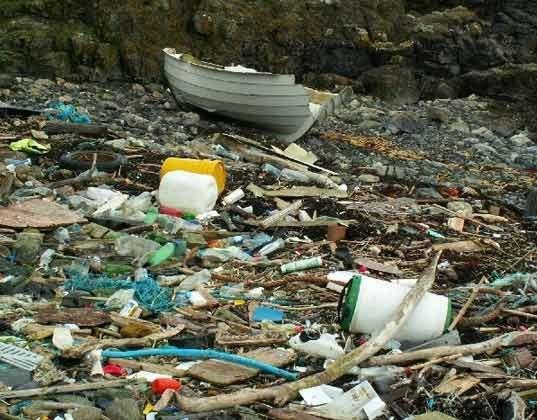garbage: (0, 65, 537, 420)
